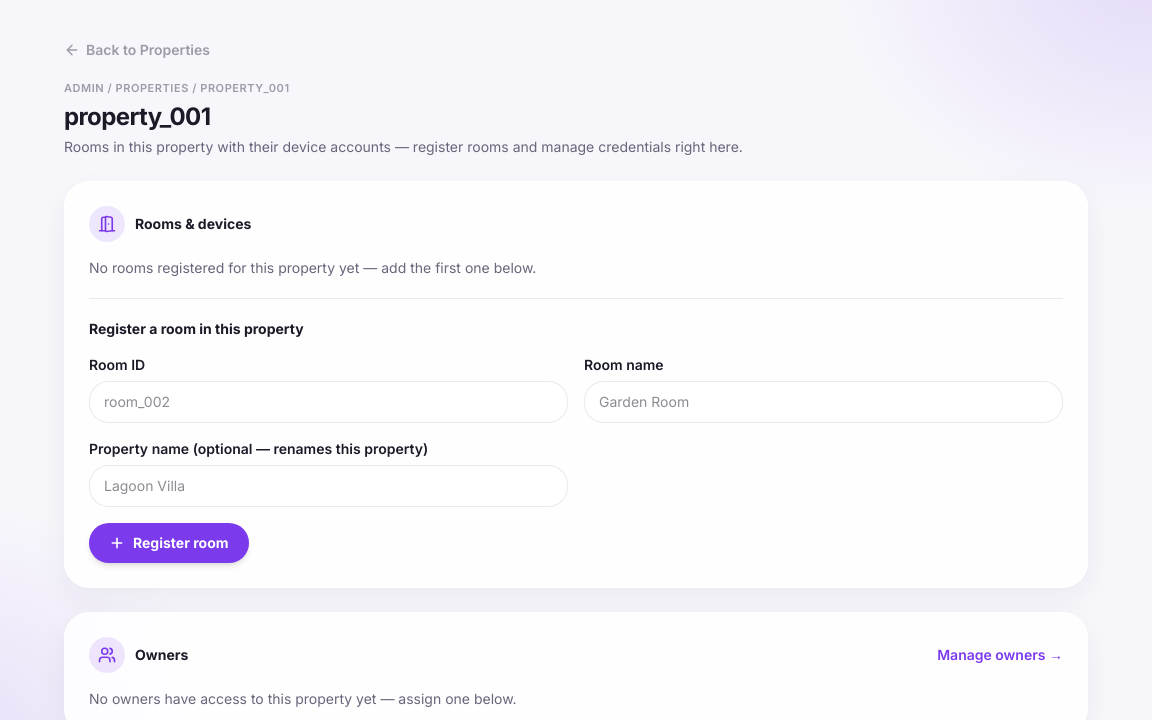
Scenario: property detail — inline room registration (slice 05) › shows the server error when registration fails
In the field labelled "Room ID": (328, 402) [89,380,568,422], type "room_009"
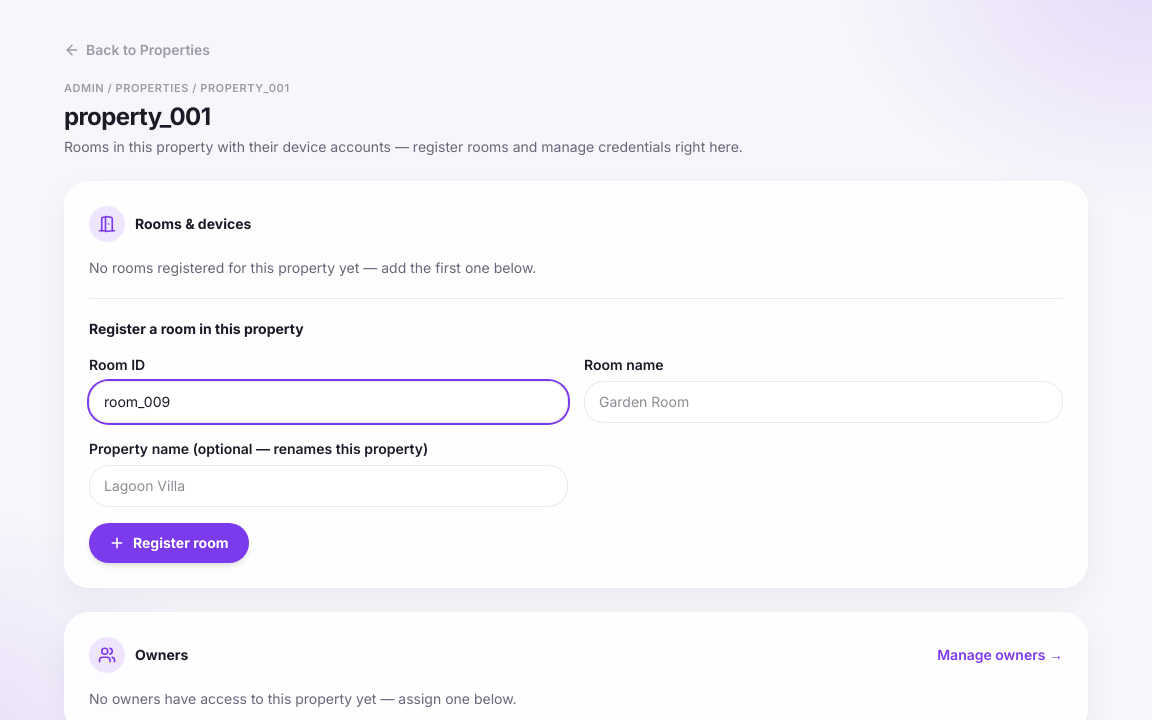
Click the button "Register room": click(169, 542) [89,522,248,562]
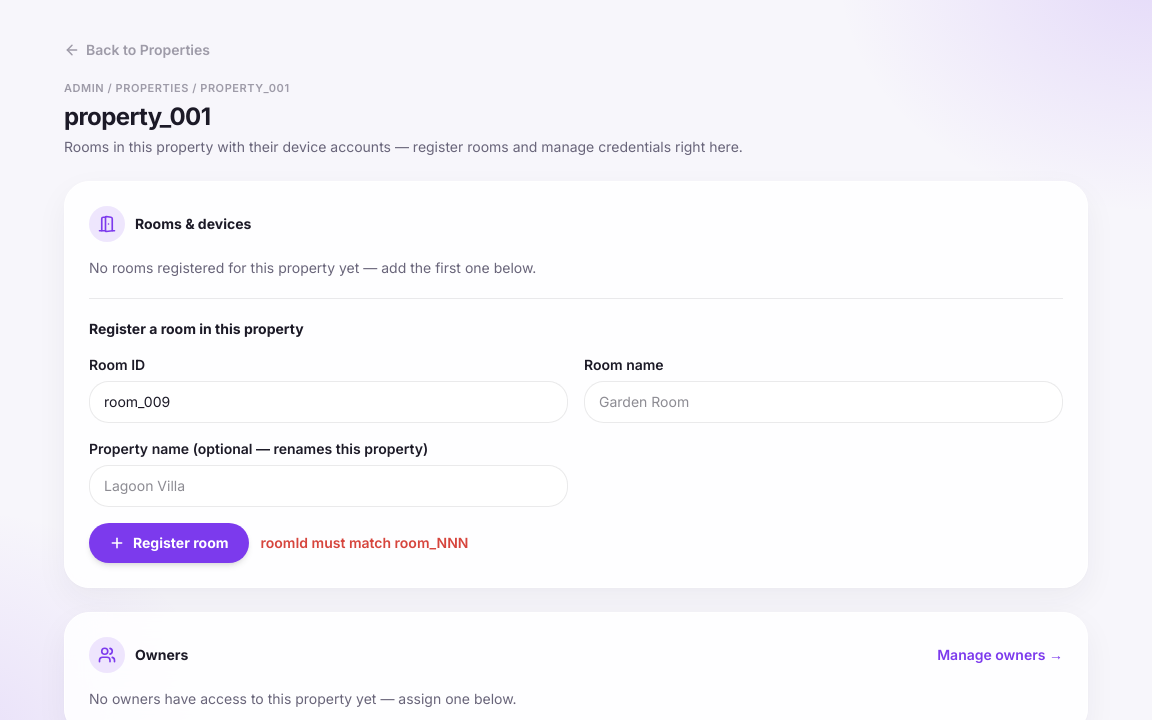
Now the message reads "roomId must match room_NNN", box [260,534,468,550]
